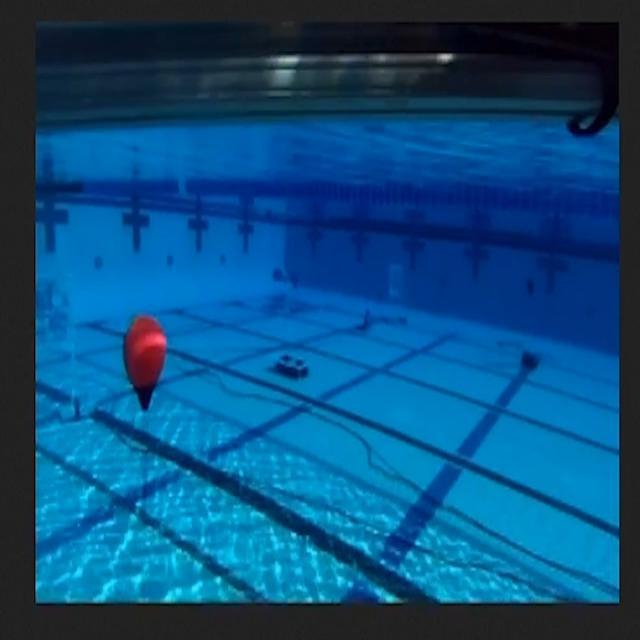Buoy: (122, 306, 168, 424)
